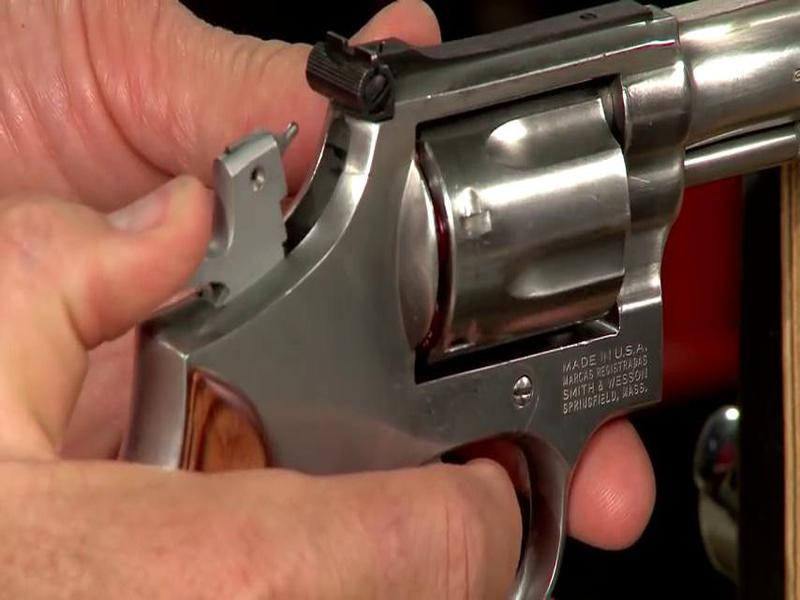Revolver: (110, 1, 796, 512)
